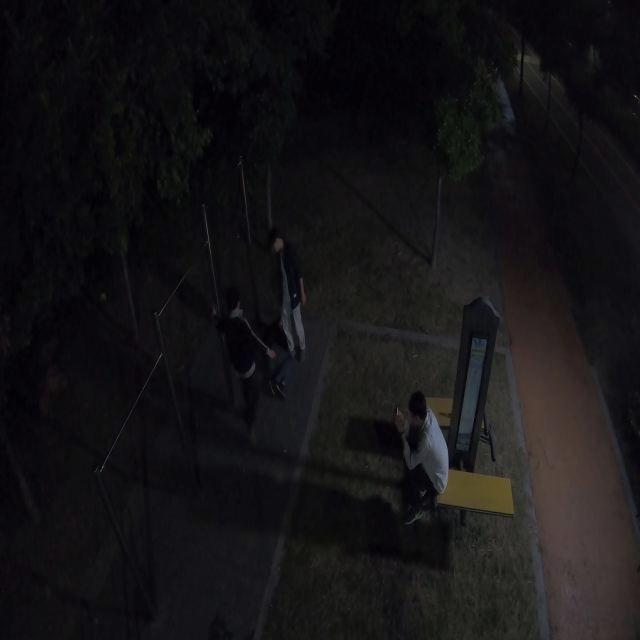fight: (214, 230, 309, 459)
non-fight: (386, 386, 455, 528)
